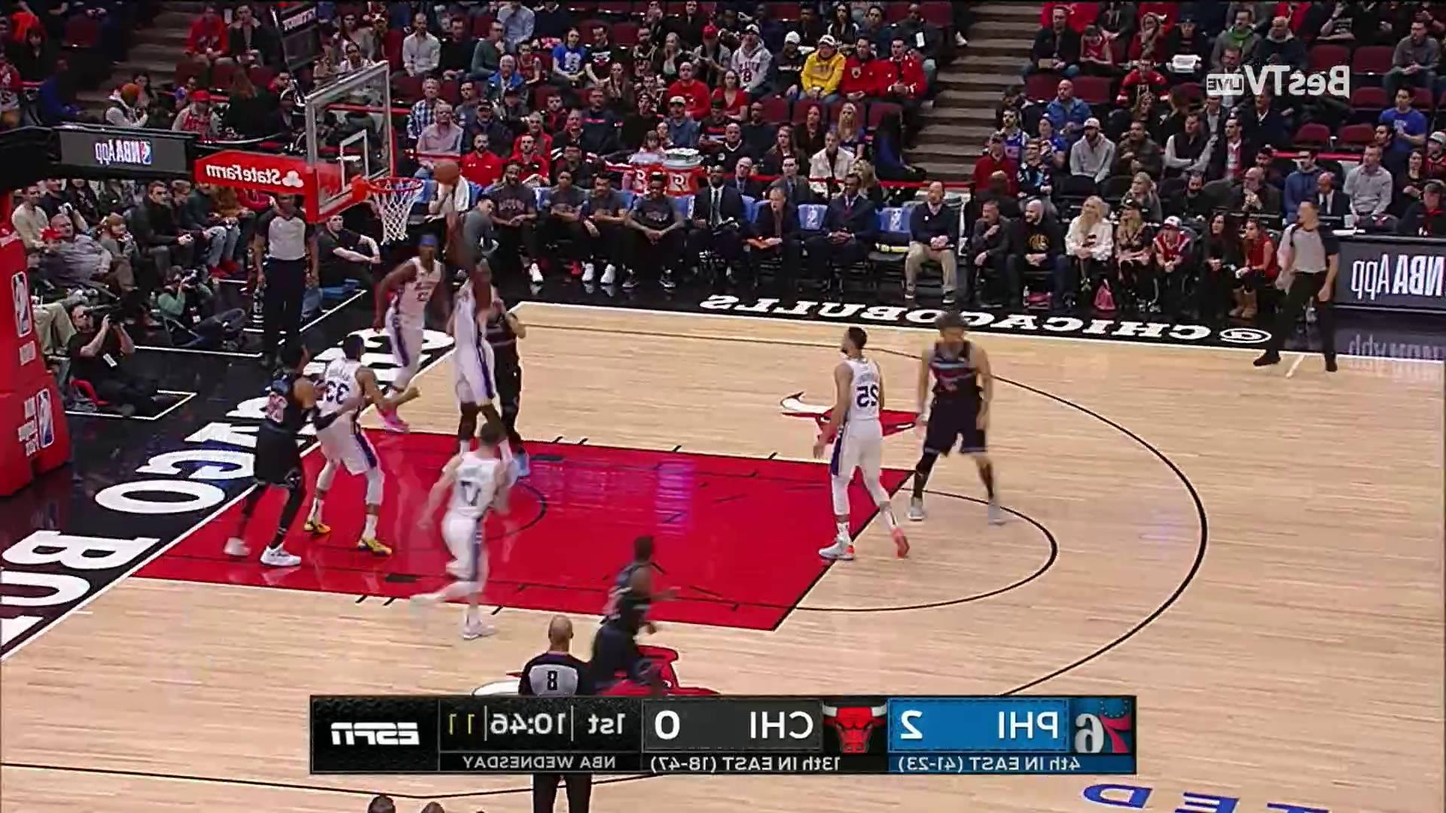basketball: (434, 160, 459, 190)
